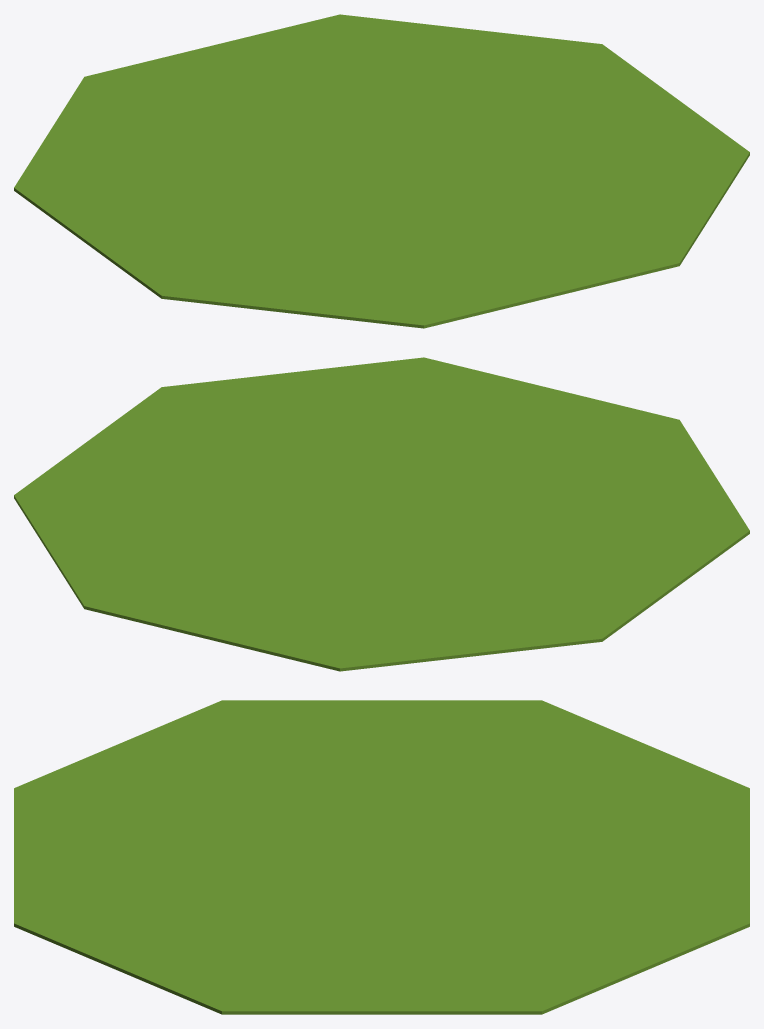
File: SM_lawn_05.glb
The picture shows the model from 3 angles, top to bottom: view 1: azimuth 30°, elevation 25°; view 2: azimuth 150°, elevation 25°; view 3: azimuth 270°, elevation 25°; orthographic projection. The views are drawn at different scales.
Parts seen in each view (by area): view 1: SM_lawn_05; view 2: SM_lawn_05; view 3: SM_lawn_05.
Boxes of the visible parts, x1=… form: SM_lawn_05: x1=14, y1=14, x2=749, y2=328; SM_lawn_05: x1=14, y1=357, x2=749, y2=671; SM_lawn_05: x1=14, y1=700, x2=749, y2=1014.
Size of the model in its own units: 6 by 0.03 by 6.
Materials: 1 (1 with a texture image).
